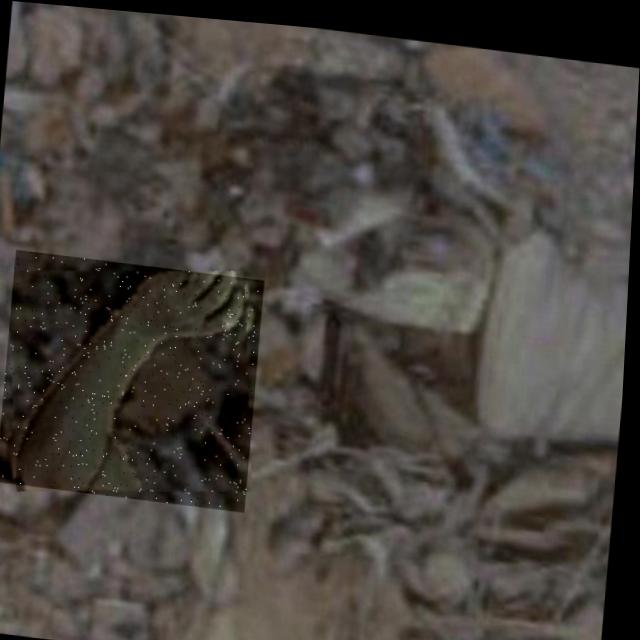Person in Rubble: (0, 248, 266, 508)
